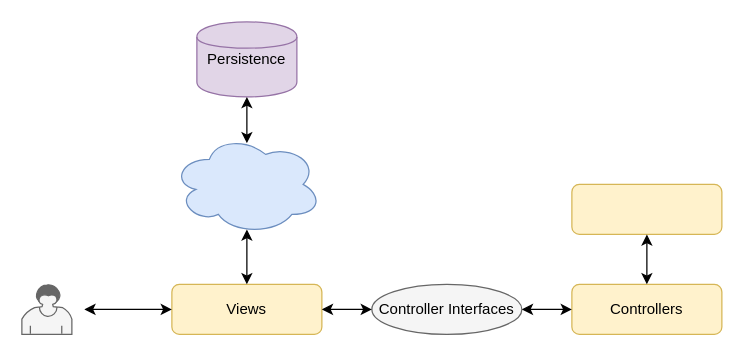
This 744x356 diagram has some shape labels left out. The shapes that lost their labels are listed below. From the top down, each one's centre as x and y in pixels, then its label:
(246,183): AWS
(646,208): Models
